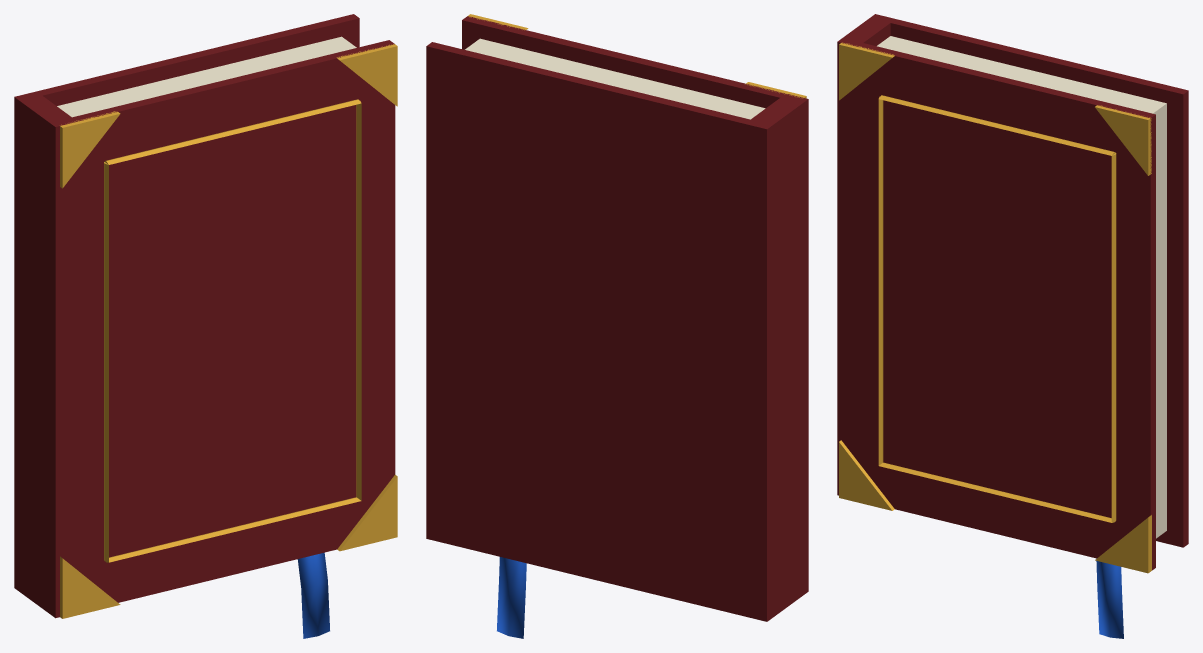
File: hand_book.glb
The picture shows the model from 3 angles, left to right: view 1: azimuth 30°, elevation 25°; view 2: azimuth 150°, elevation 25°; view 3: azimuth 330°, elevation 25°; orthographic projection. The views are drawn at different scales.
Parts seen in each view (by area): view 1: hand_book_q; view 2: hand_book_q; view 3: hand_book_q.
Part boxes in pixels (<box>): hand_book_q: <box>14,14,397,638</box>; hand_book_q: <box>426,14,808,638</box>; hand_book_q: <box>837,14,1188,638</box>.
Bounding box in the file's own units: 1.52 × 2.52 × 0.354.
